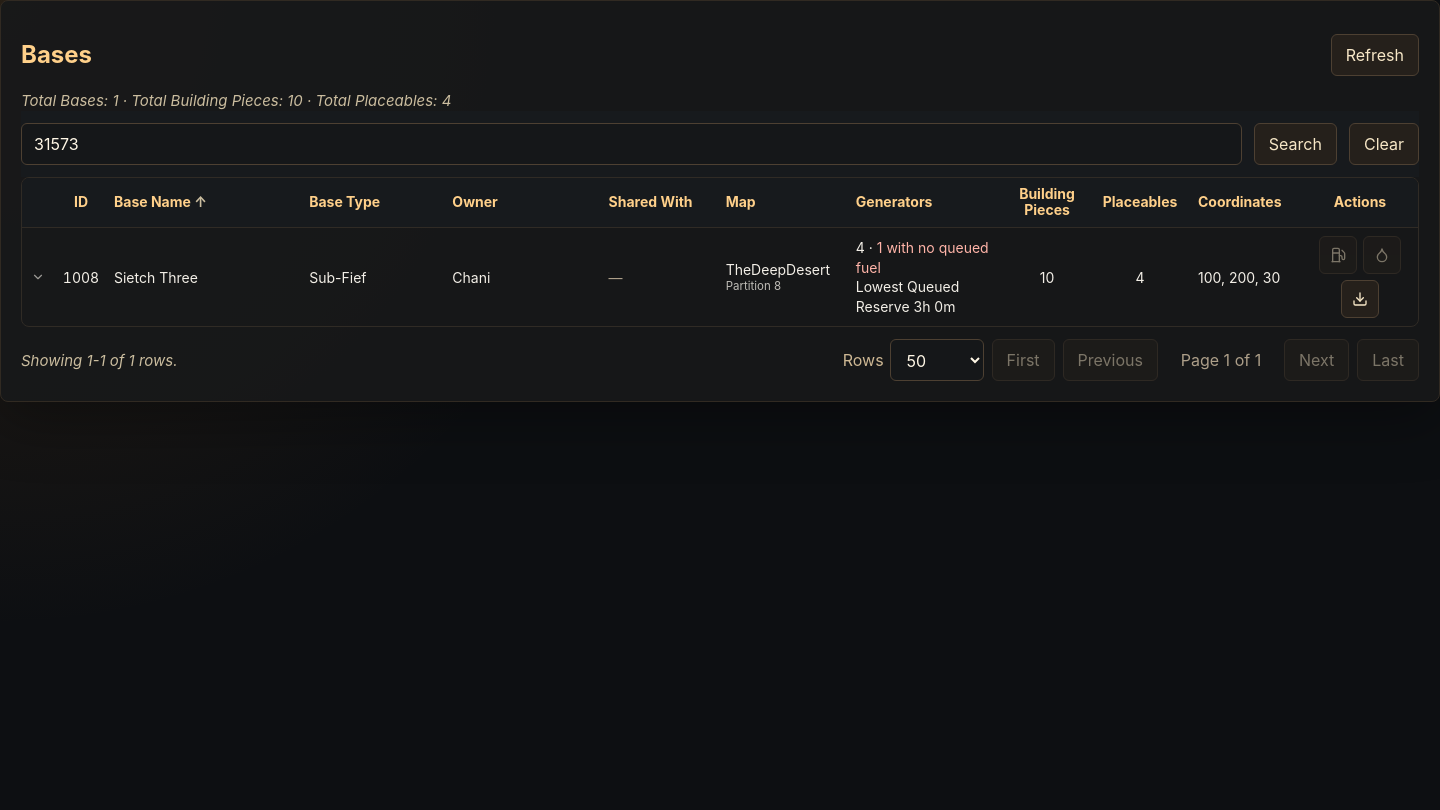
Test case: BasesPanel generator details › renders both wind turbine types and reports generators with no queued fuel
Step 1. Click the button named "Show details for Sietch Three" → (38, 277), box [26,265,50,289]
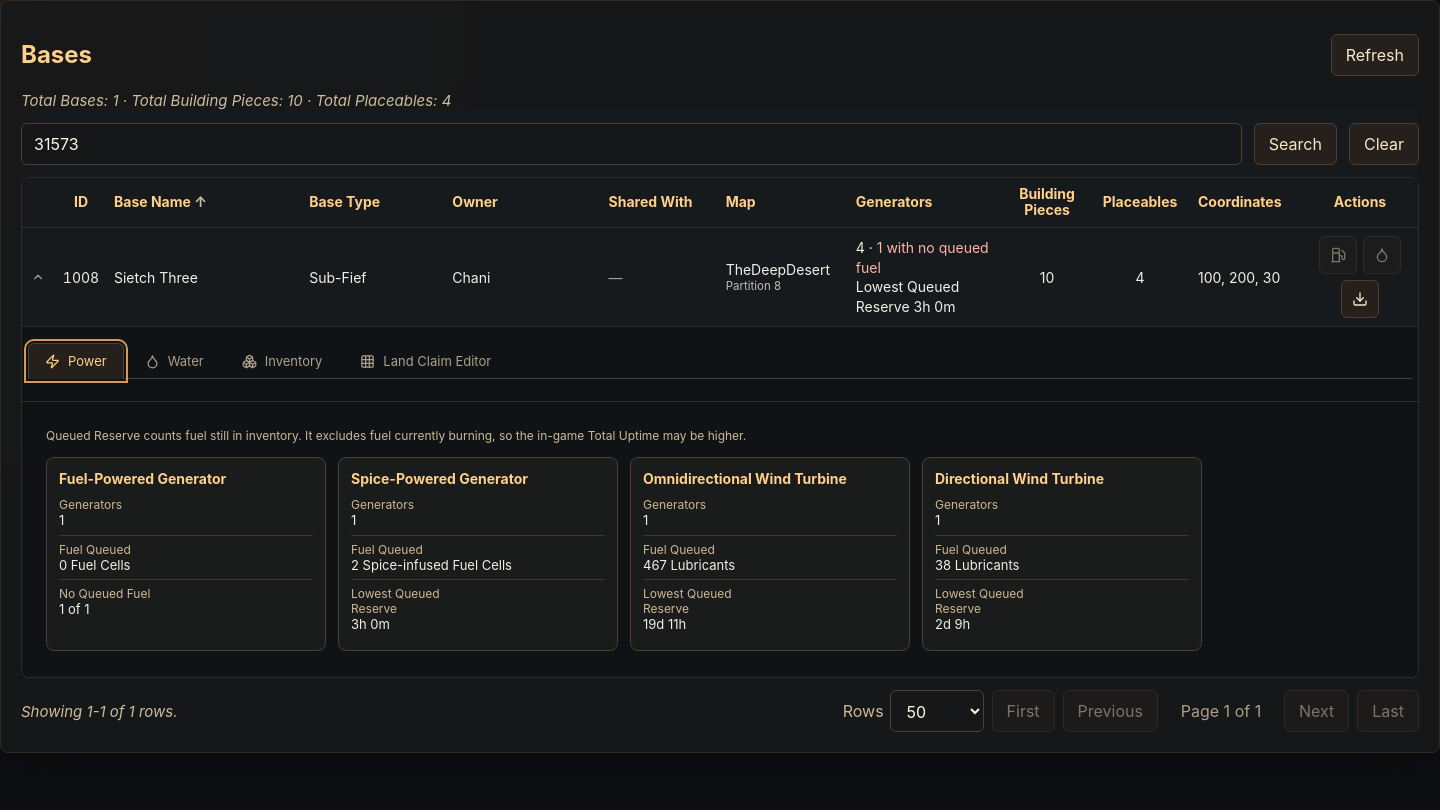
Expected: the text "Fuel-Powered Generator" is shown, [59,470,226,487]
Expected: the text "Spice-Powered Generator" is shown, [351,470,528,487]
Expected: the text "Omnidirectional Wind Turbine" is shown, [643,470,847,487]
